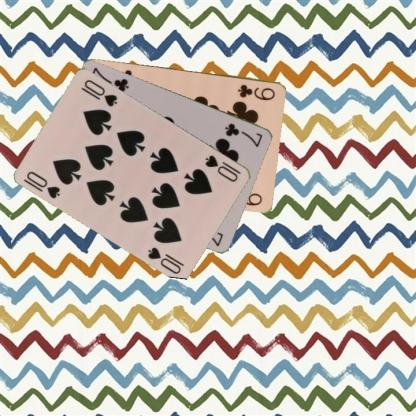10s: (202, 152, 243, 183), (24, 168, 62, 200)
7c: (222, 120, 264, 149)
9c: (235, 82, 277, 102)
